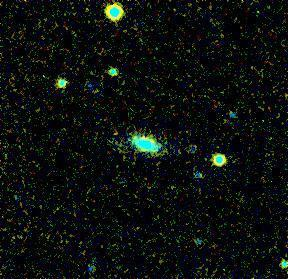star: (119, 121, 149, 151)
